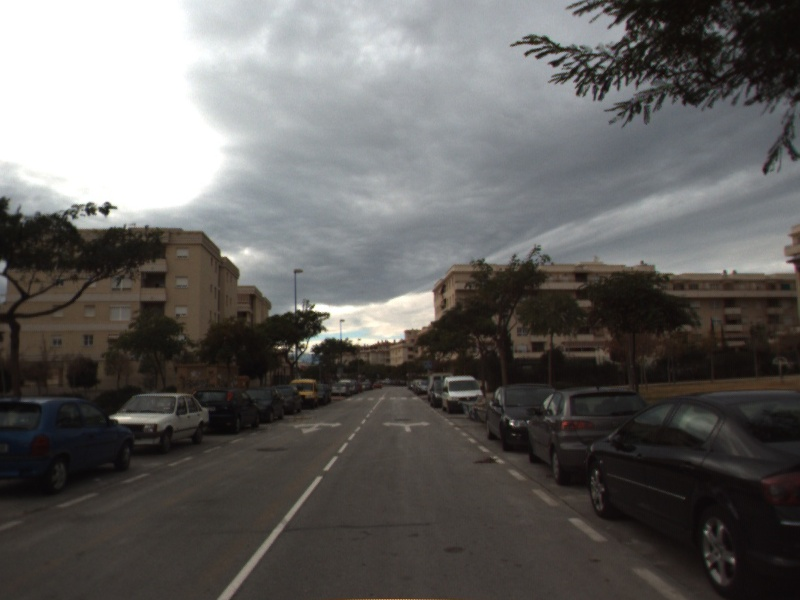LEFT_RIGHT: (380, 418, 434, 434)
